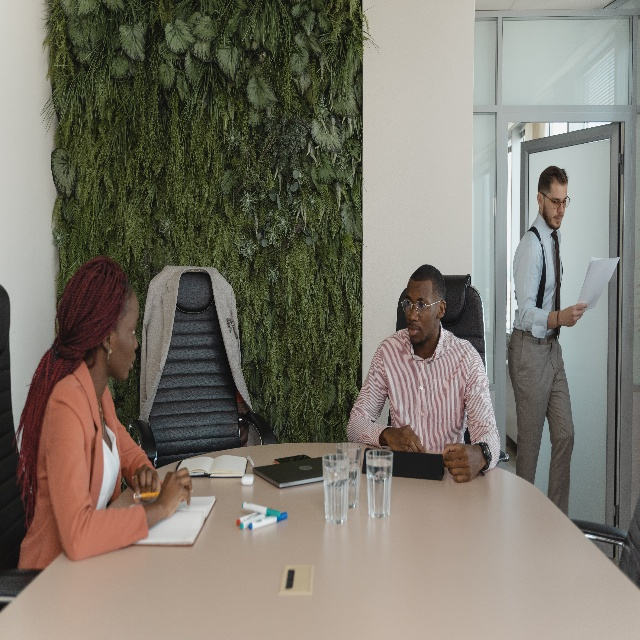Gafas: (400, 297, 427, 314), (553, 195, 572, 211)
Sin_guantes: (441, 439, 487, 483), (160, 467, 193, 511), (385, 422, 426, 455), (133, 463, 160, 498), (558, 302, 588, 328)
